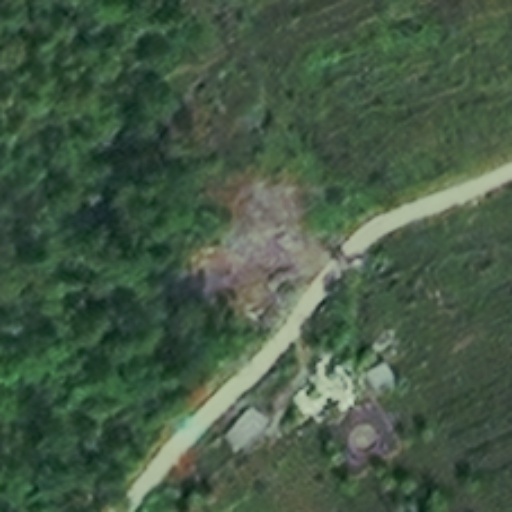landslide: (182, 162, 336, 324)
